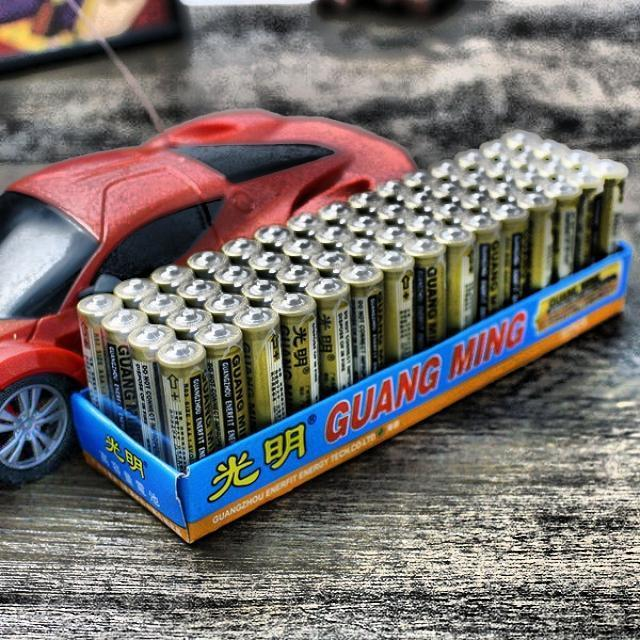battery: (78, 132, 626, 471)
